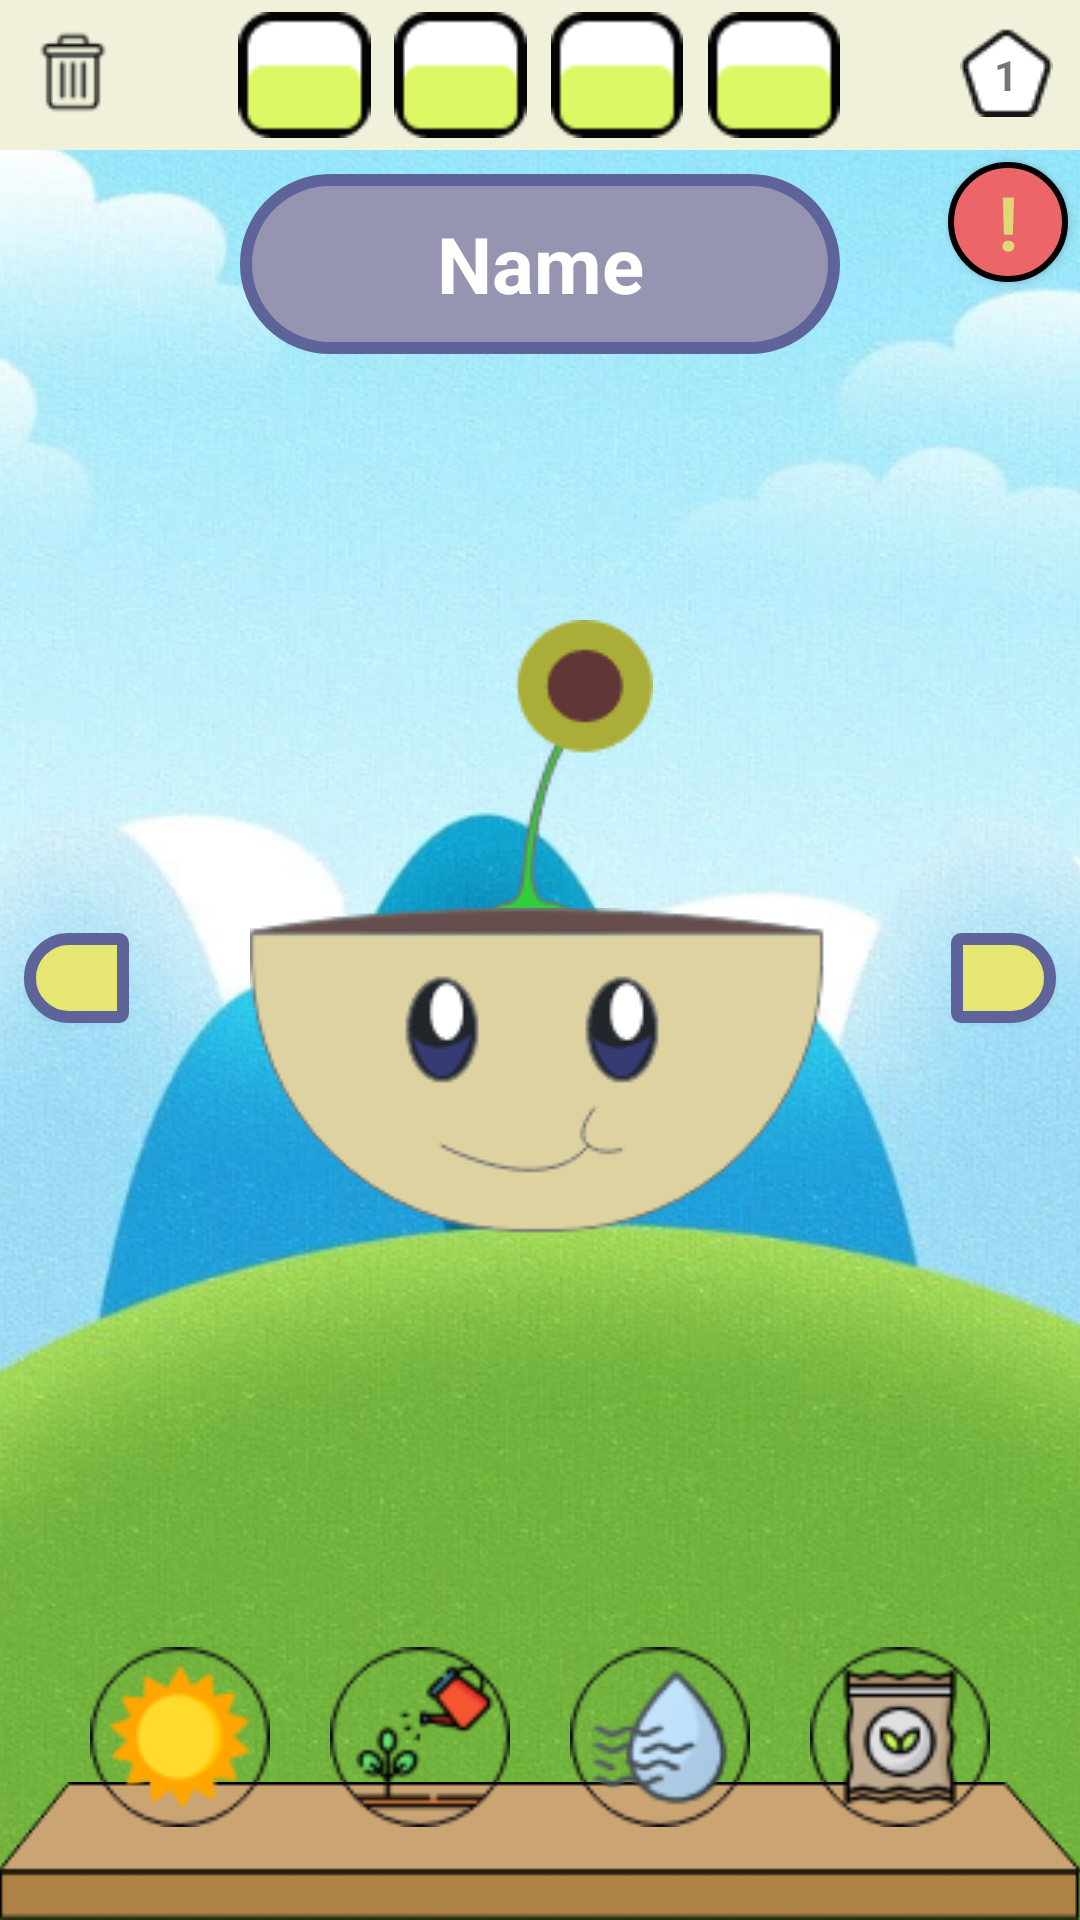

Point at icon controls on the screen. Image size 1080px×1920px, points as (x=x, y=y).
bin: (x=73, y=72)
polygon: (x=1006, y=73)
